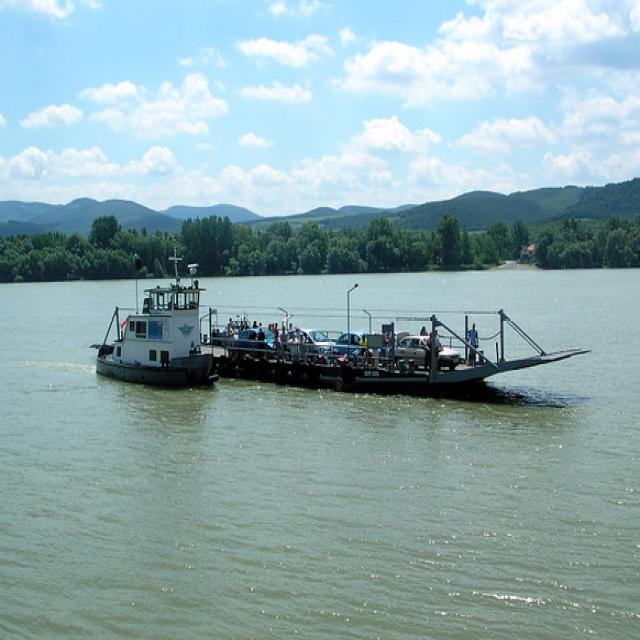houseboat: (88, 274, 216, 388)
